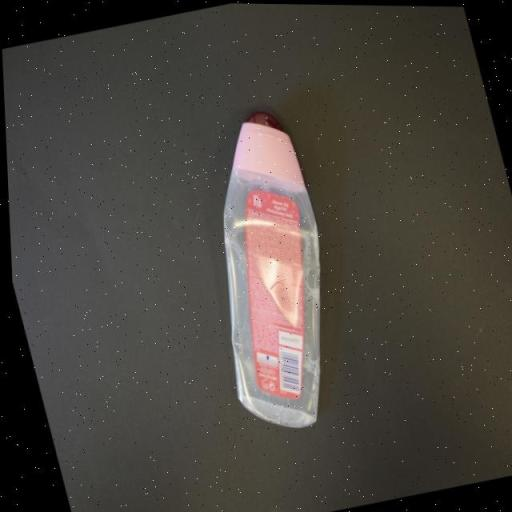plastic: (166, 100, 363, 438)
